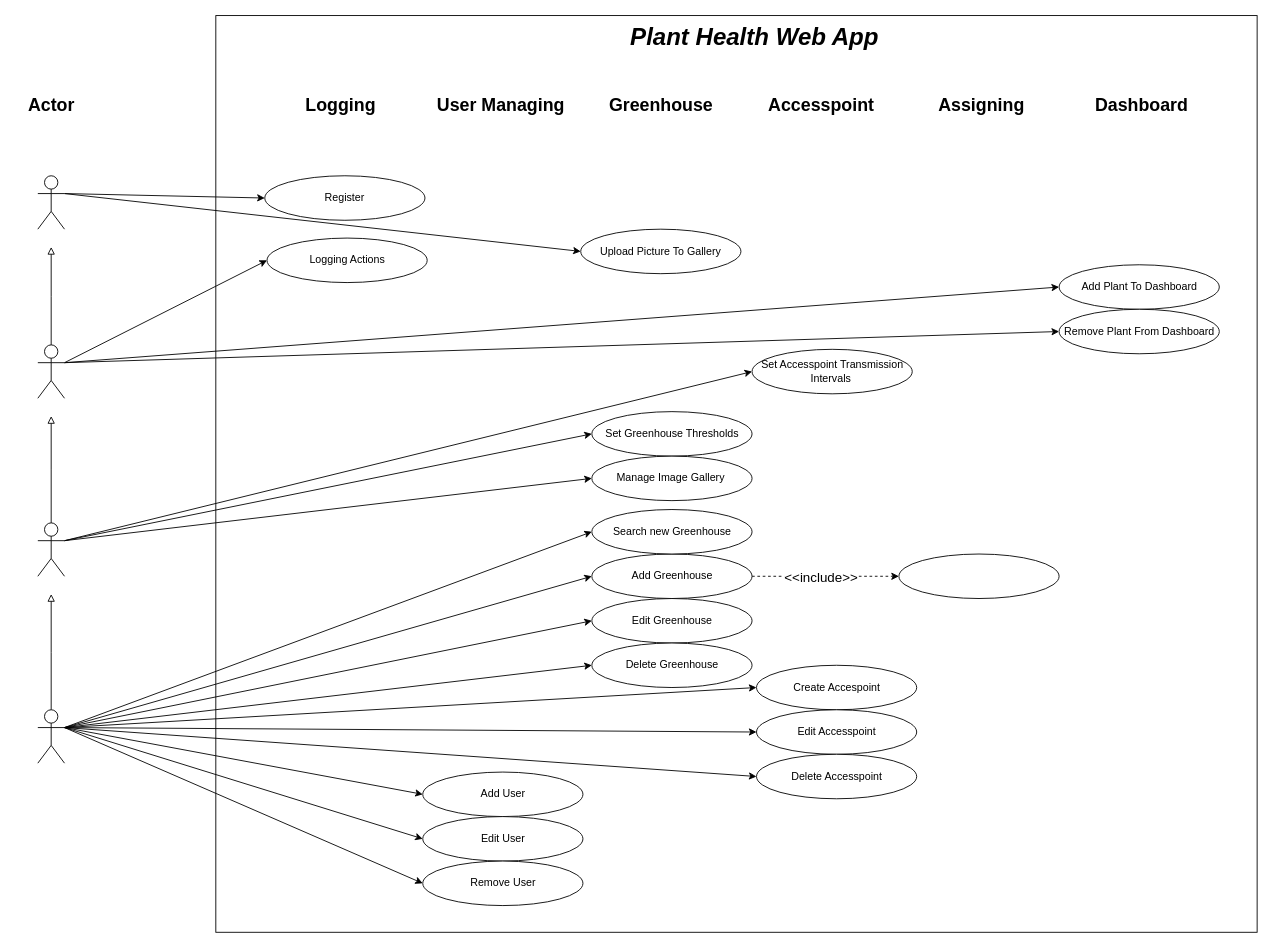
Some shapes in this 1273 by 948 pixel diagram are drawn without their labels. The shapes that lost their labels are listed below. From the top down, each one's box as (x1, y1, x2, y2) in pixels, then its label:
(37, 175, 65, 229): Visitor
(37, 344, 65, 398): User
(37, 522, 65, 576): Gardener
(898, 553, 1059, 599): Assign Greenhouse to Accesspoint
(37, 709, 65, 763): Administrator
